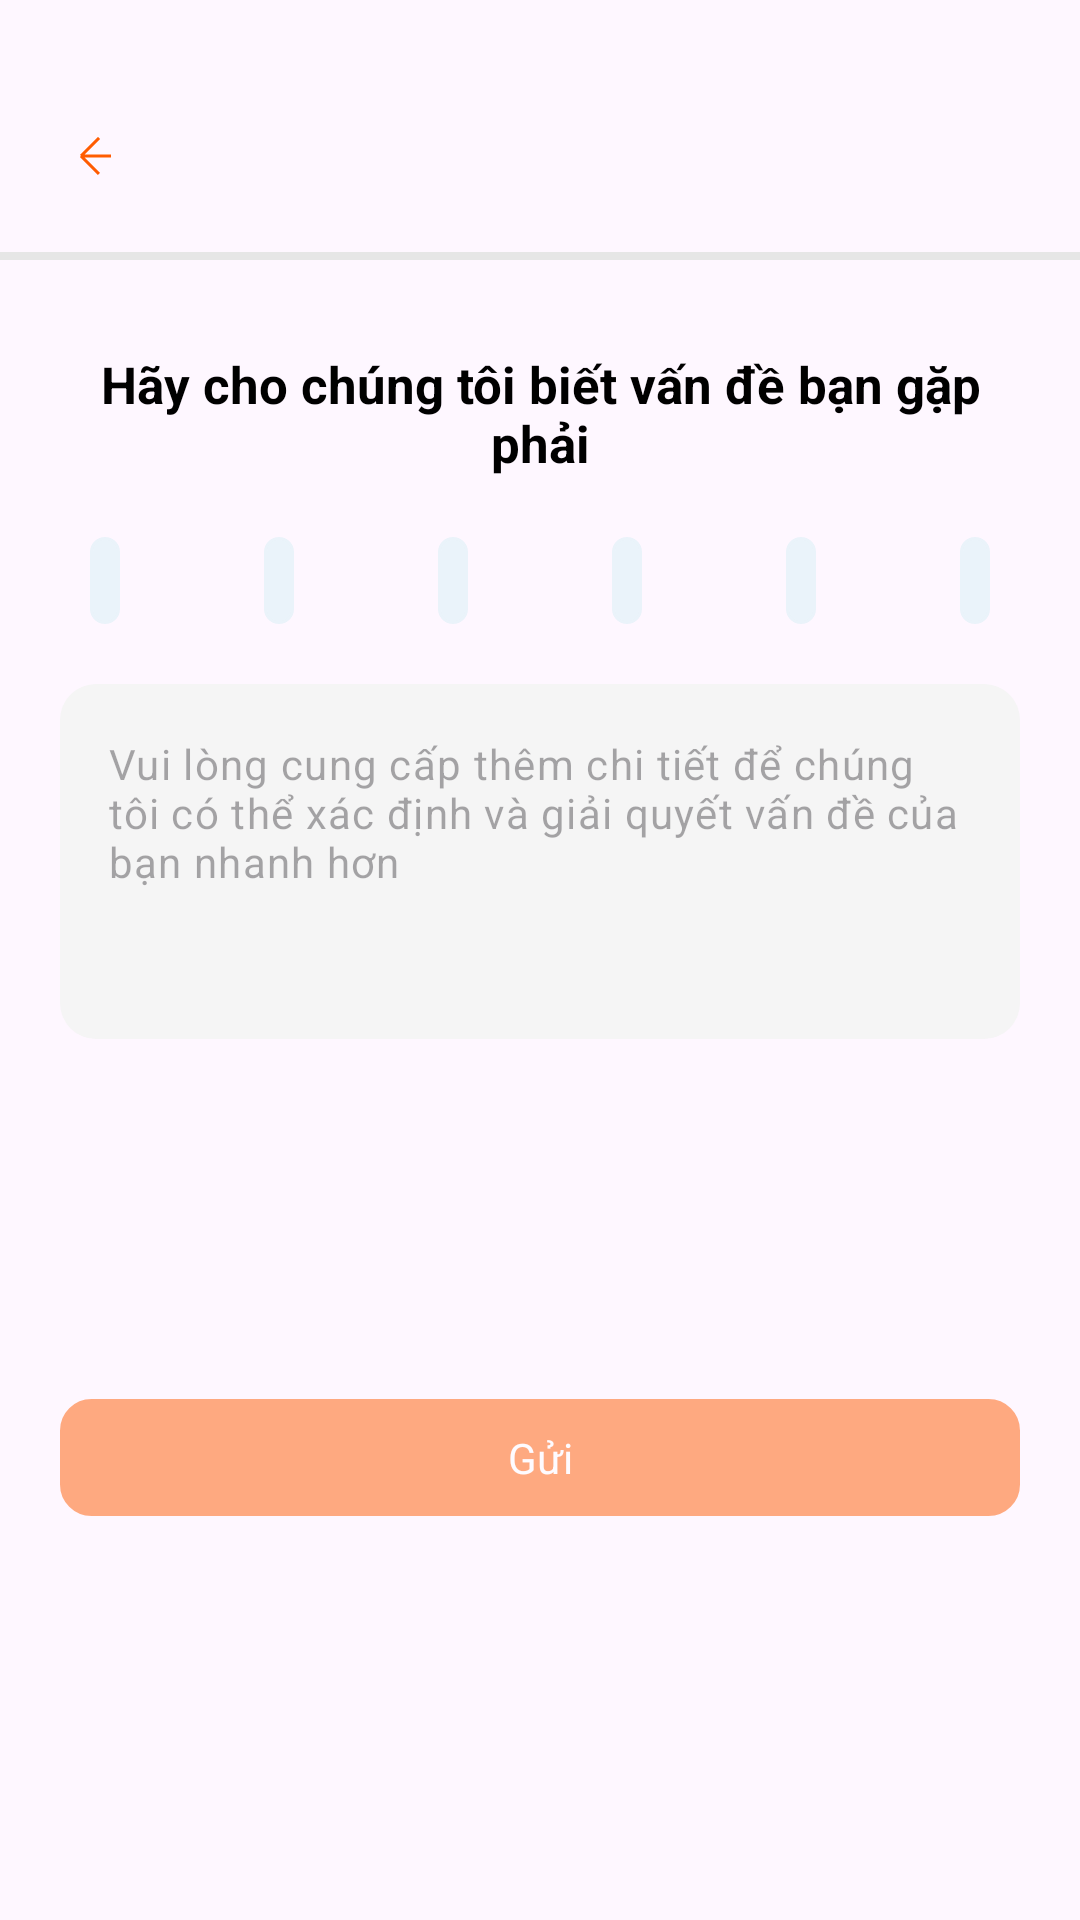

Screen size 1080×1920. Icon name, then its box in pixels as (left=x1, top=y1, right=x2, bottom=y2):
feedback setting back: (left=80, top=137, right=111, bottom=175)
